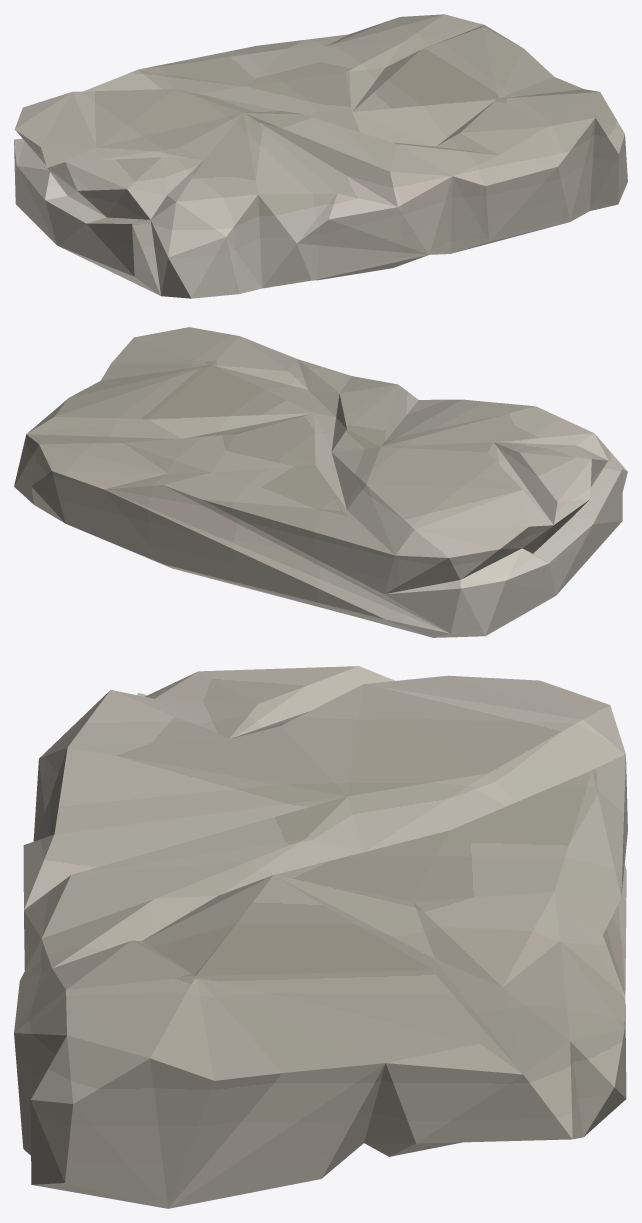
Rendered from 3D_Stair1.fbx.
The picture shows the model from 3 angles, top to bottom: view 1: azimuth 30°, elevation 25°; view 2: azimuth 150°, elevation 25°; view 3: azimuth 270°, elevation 25°; orthographic projection. The views are drawn at different scales.
Visible parts, largest first — view 1: Stair1; view 2: Stair1; view 3: Stair1.
Boxes of the visible parts, bbox=[...] form: Stair1: bbox=[14, 14, 627, 298]; Stair1: bbox=[14, 327, 627, 637]; Stair1: bbox=[14, 666, 627, 1208].
Bounding box in the file's own units: 102 × 21.95 × 65.79.
